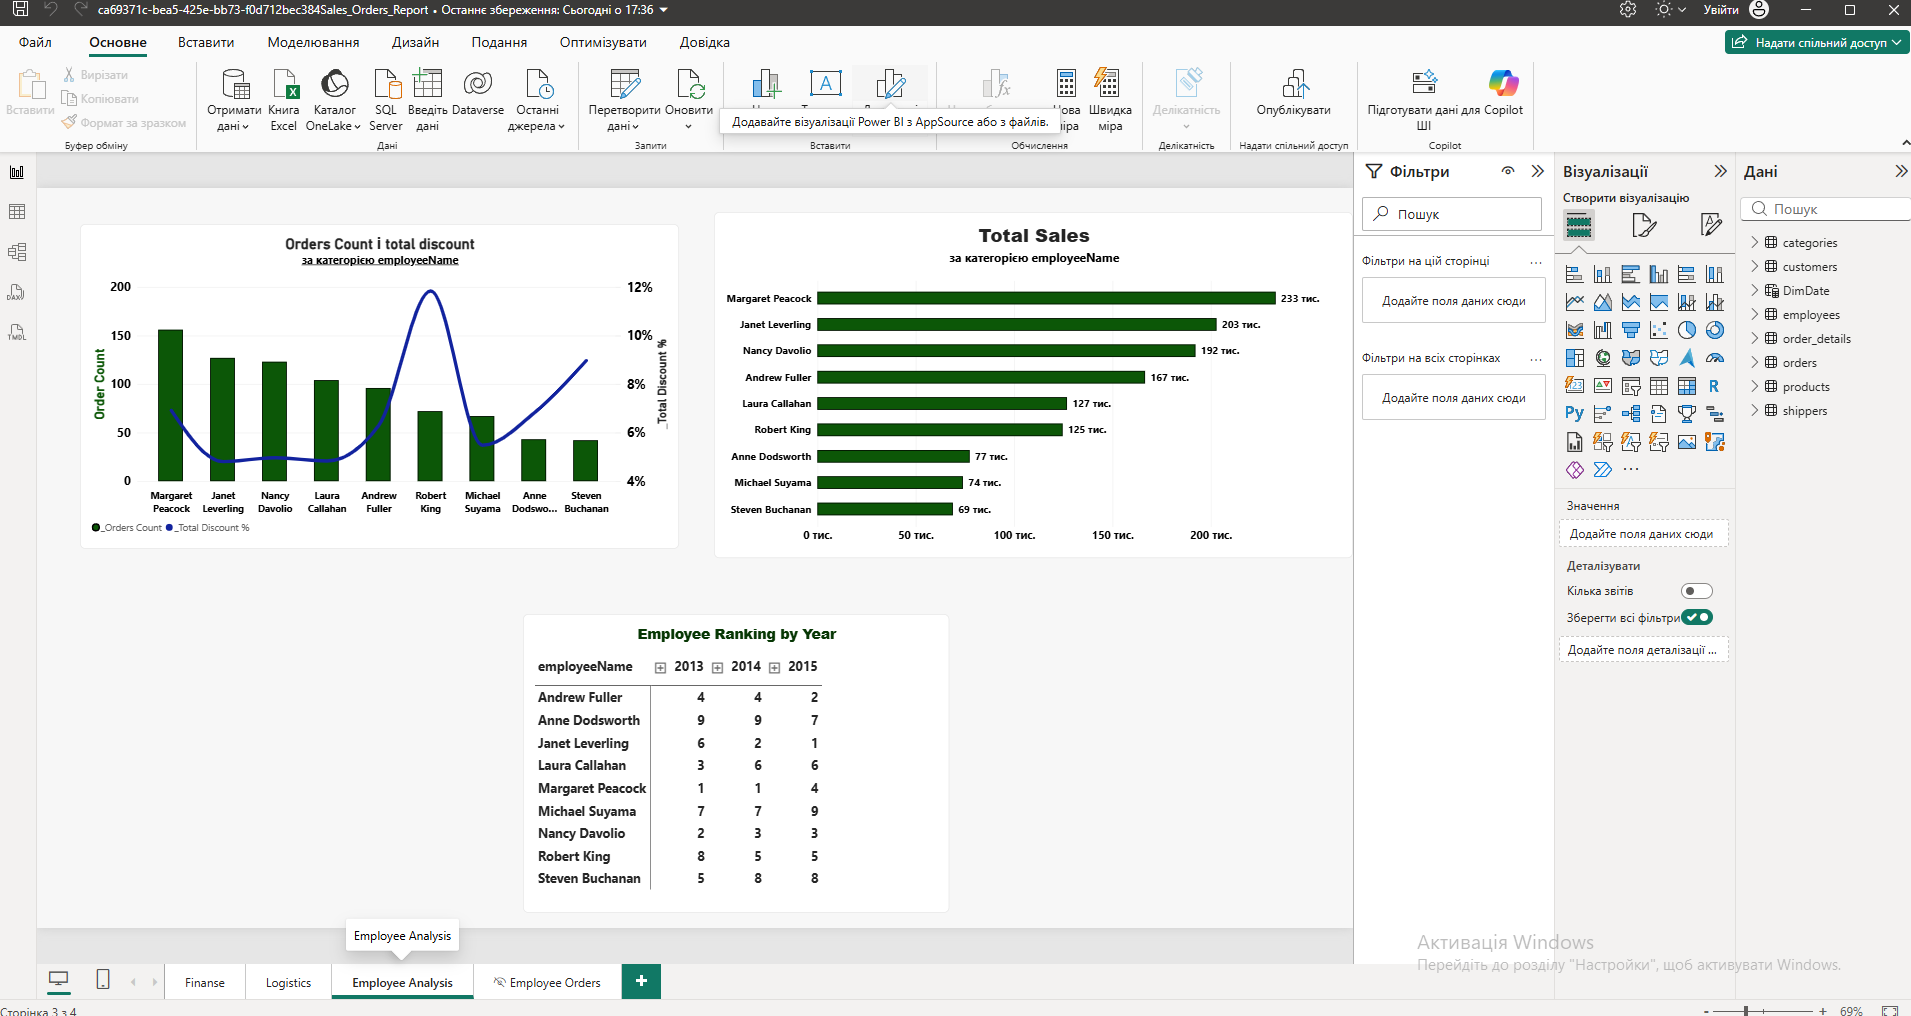

The page's visual inventory and layout, read from the dashboard file:
{"tool":"powerbi","page":{"name":"Employee Analysis","canvas":[1920,1080],"ordinal":2},"visuals":[{"type":"lineClusteredColumnComboChart","title":"Orders Count і total discount","fields":{"Category":["employees.employeeName"],"Y":["orders._Orders Count"],"Y2":["orders._Total Discount %"]},"box":[62.7,52.5,873.9,474.2],"z":1},{"type":"clusteredBarChart","title":"Total Sales","fields":{"Category":["employees.employeeName"],"Y":["orders._Total Sales"]},"box":[987.7,35,932.3,504.8],"z":2},{"type":"pivotTable","title":"Employee Ranking by Year","fields":{"Columns":["DimDate.Date.Варіація.Ієрархія дат.Рік","DimDate.Date.Варіація.Ієрархія дат.Місяць"],"Rows":["employees.employeeName"],"Values":["employees.Employee Rank"]},"box":[709.1,621.5,621.5,436.2],"z":3}]}

Visuals, with their boxes on the page's 1920x1080 design canvas (x1, y1, x2, y2). These are canvas units, not pixel positions in the 1911x1016 screenshot, which may show the page scaled, cropped or inside an application window:
"Orders Count і total discount" lineClusteredColumnComboChart: (63, 52, 937, 527)
"Total Sales" clusteredBarChart: (988, 35, 1920, 540)
"Employee Ranking by Year" pivotTable: (709, 622, 1331, 1058)
